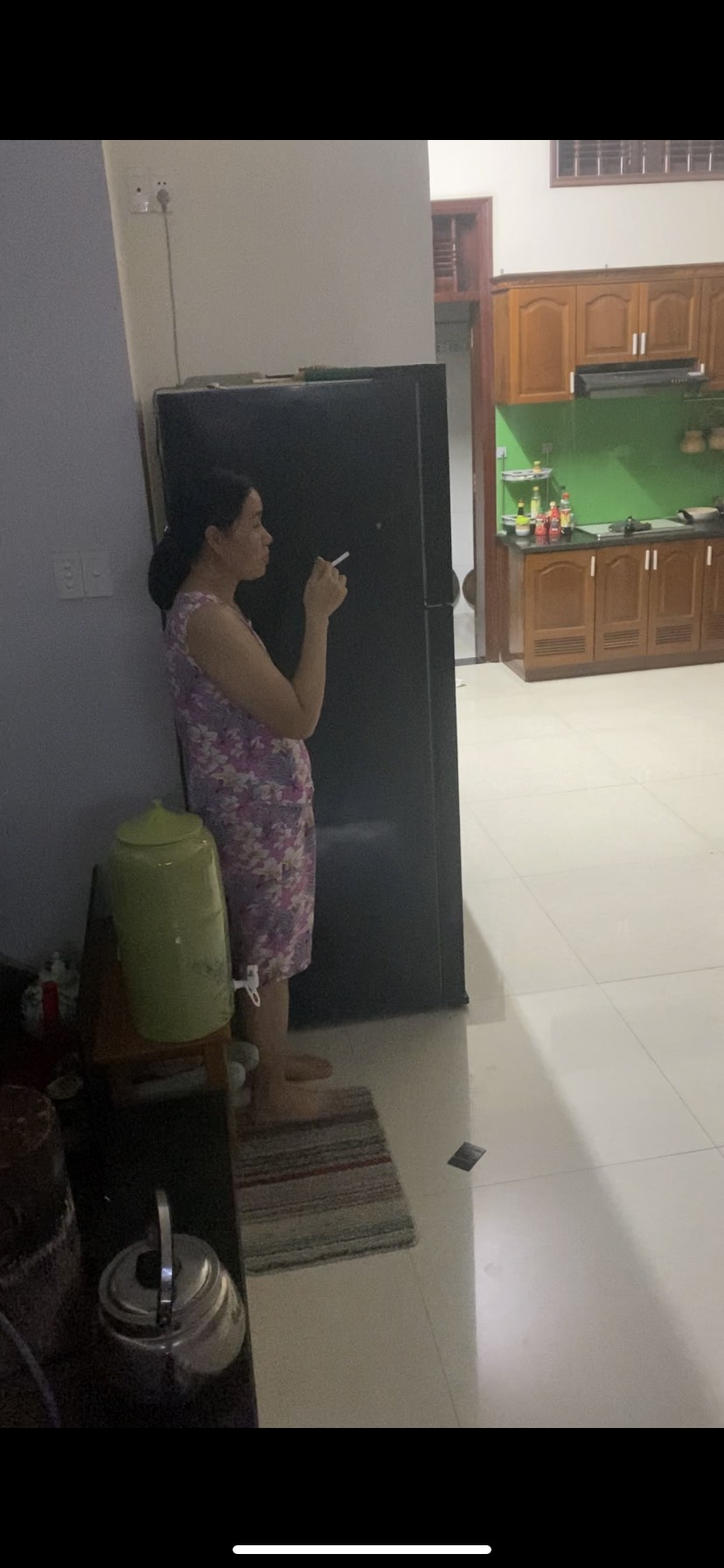cigarette: (331, 546, 354, 569)
person: (138, 456, 356, 802)
